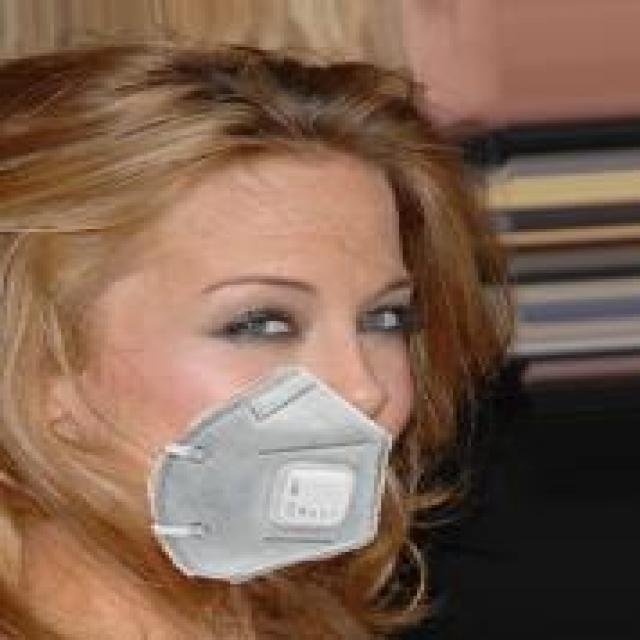mask: (22, 62, 510, 596)
